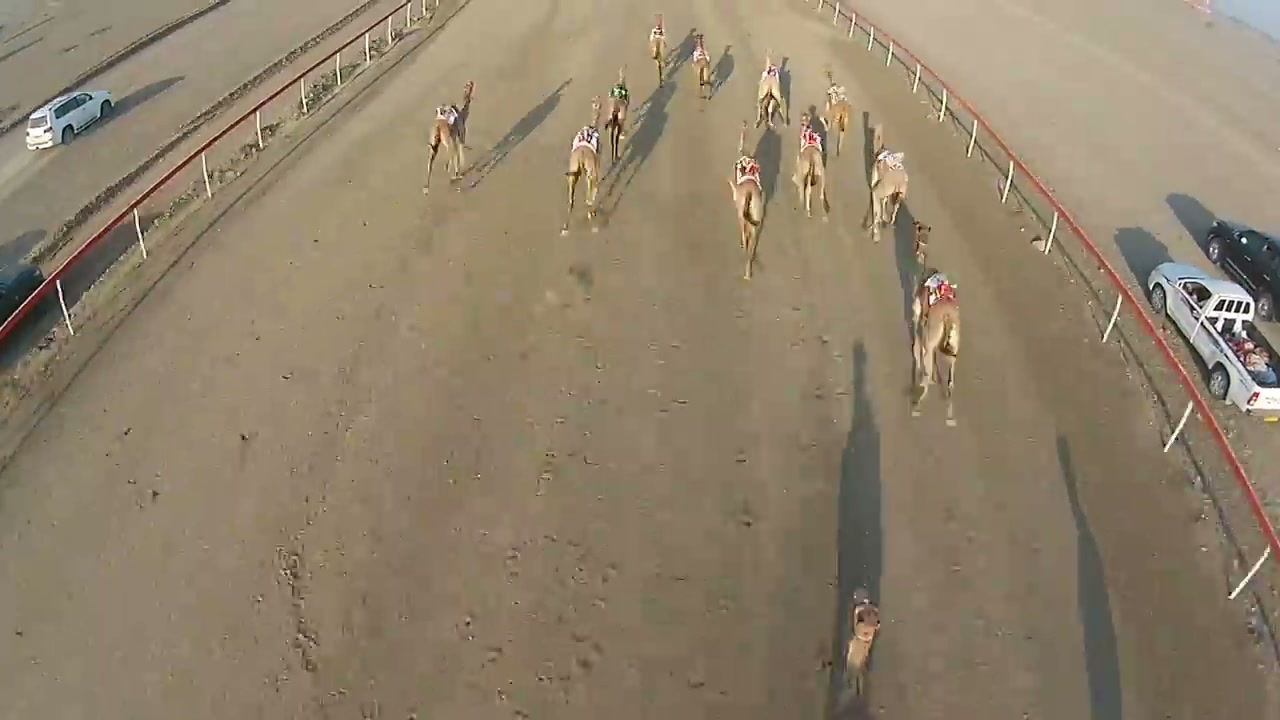animal_footprint: (408, 280, 653, 702)
